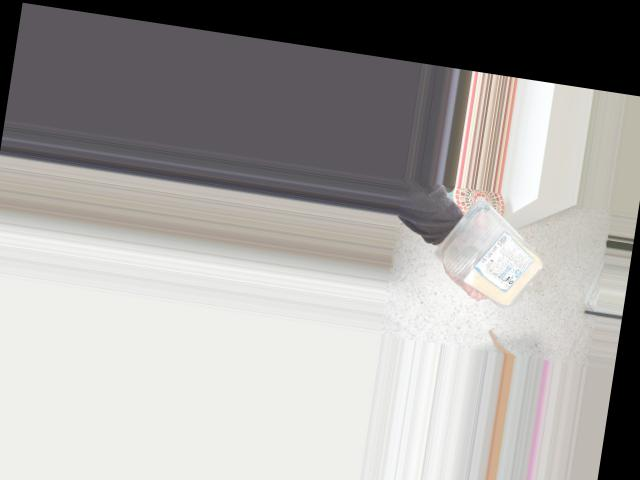cheese: (444, 202, 554, 299)
